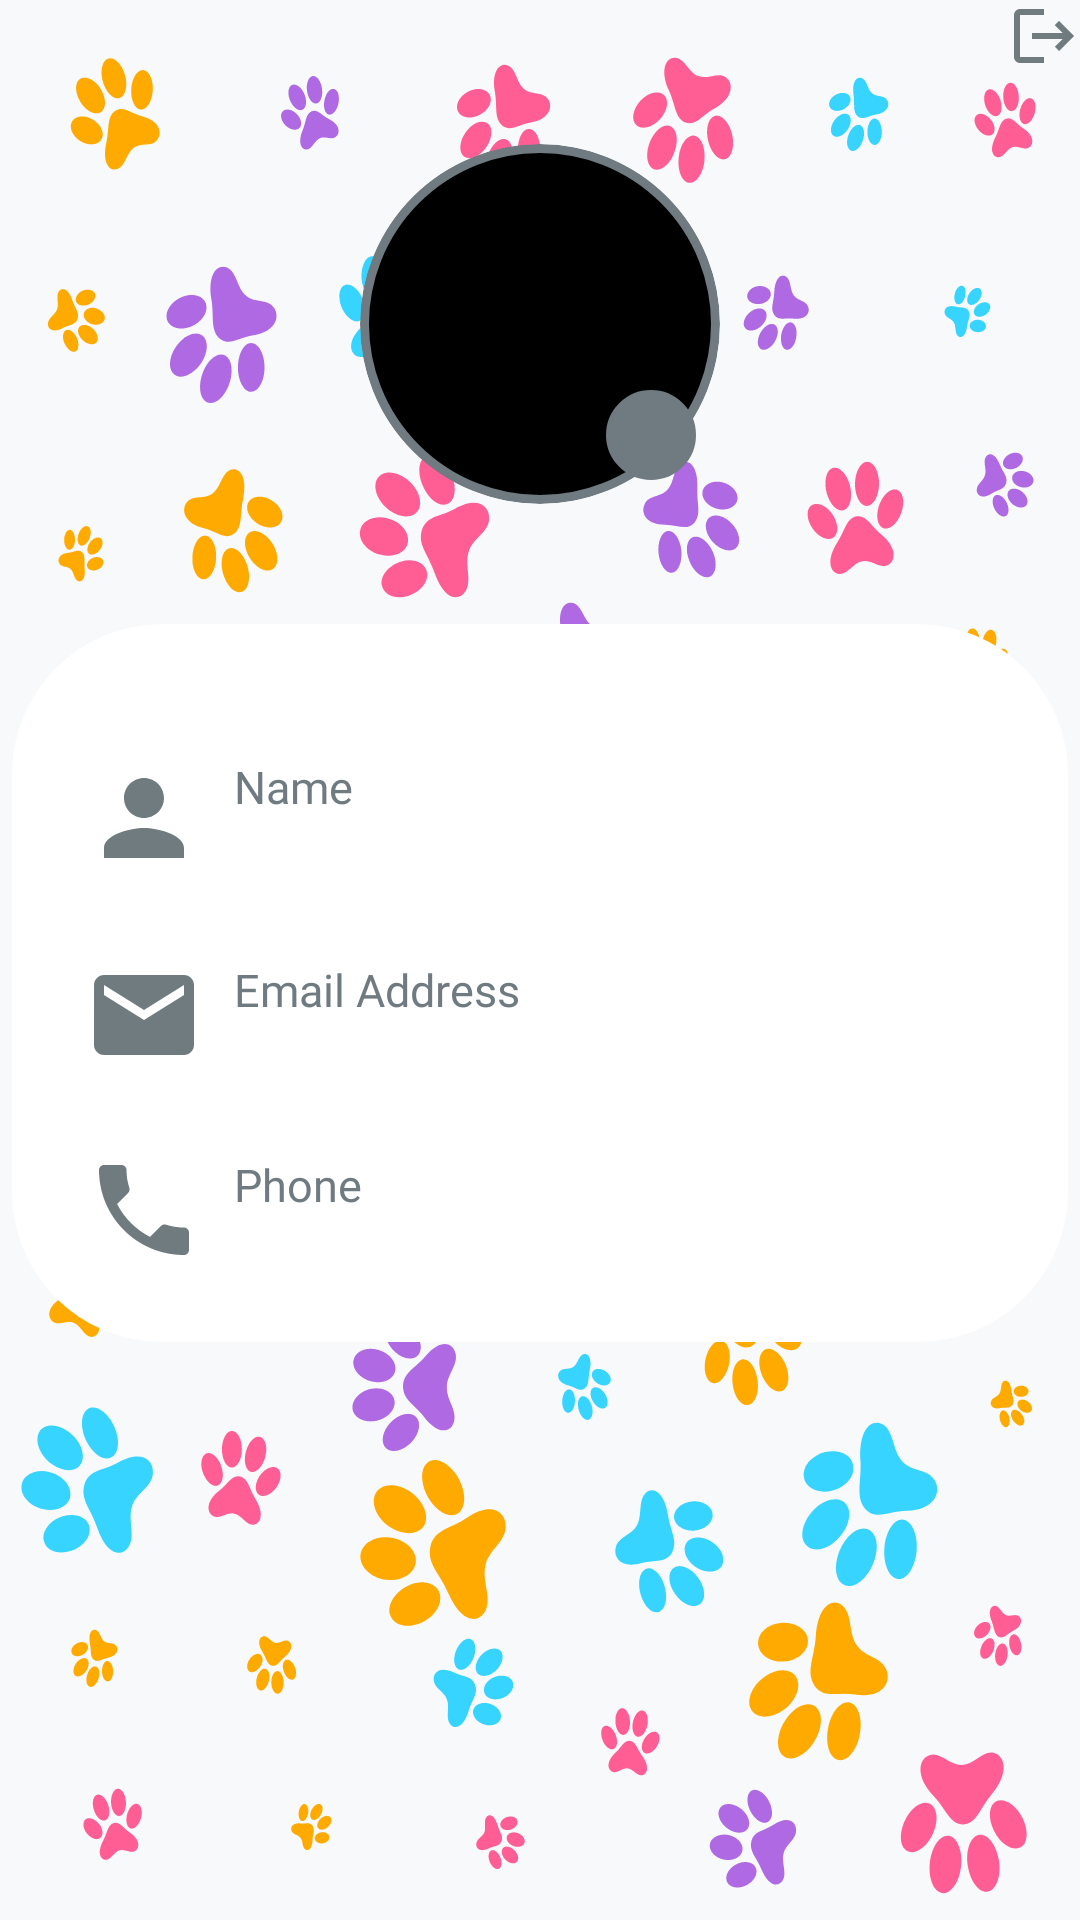

Screen size 1080*1920. Icon name, then its box in pixels as (x1, y1, x2, y2):
userfill: (104, 778, 184, 858)
